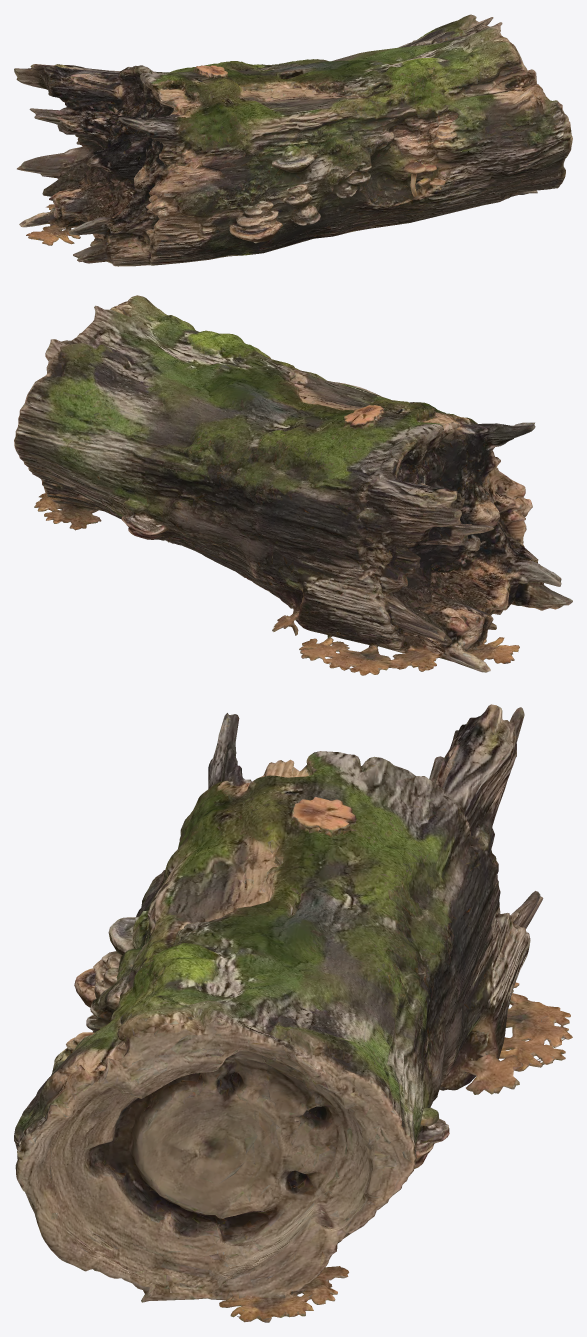
The model's file is fallen-log.glb.
3 views of the same model, one above another, from view 1: azimuth 30°, elevation 25°; view 2: azimuth 150°, elevation 25°; view 3: azimuth 270°, elevation 25° (orthographic). The views are drawn at different scales.
Visible parts, largest first — view 1: Mesh_0; view 2: Mesh_0; view 3: Mesh_0.
Boxes of the visible parts, box(x1,y1,x2,y2) form: Mesh_0: box(14, 14, 572, 266); Mesh_0: box(14, 295, 572, 675); Mesh_0: box(14, 704, 572, 1322).
Bounding box in the file's own units: 1.9 × 0.6503 × 1.19.
Materials: 1 (1 with a texture image).
